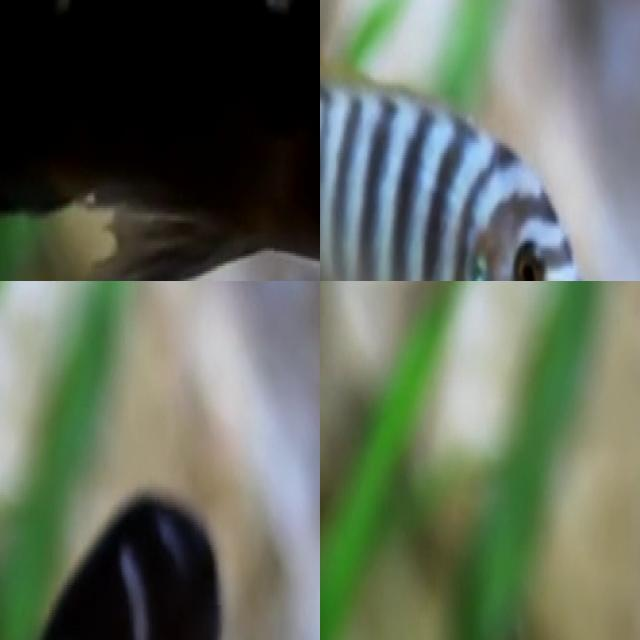fish: (0, 0, 320, 281), (0, 474, 223, 640)
